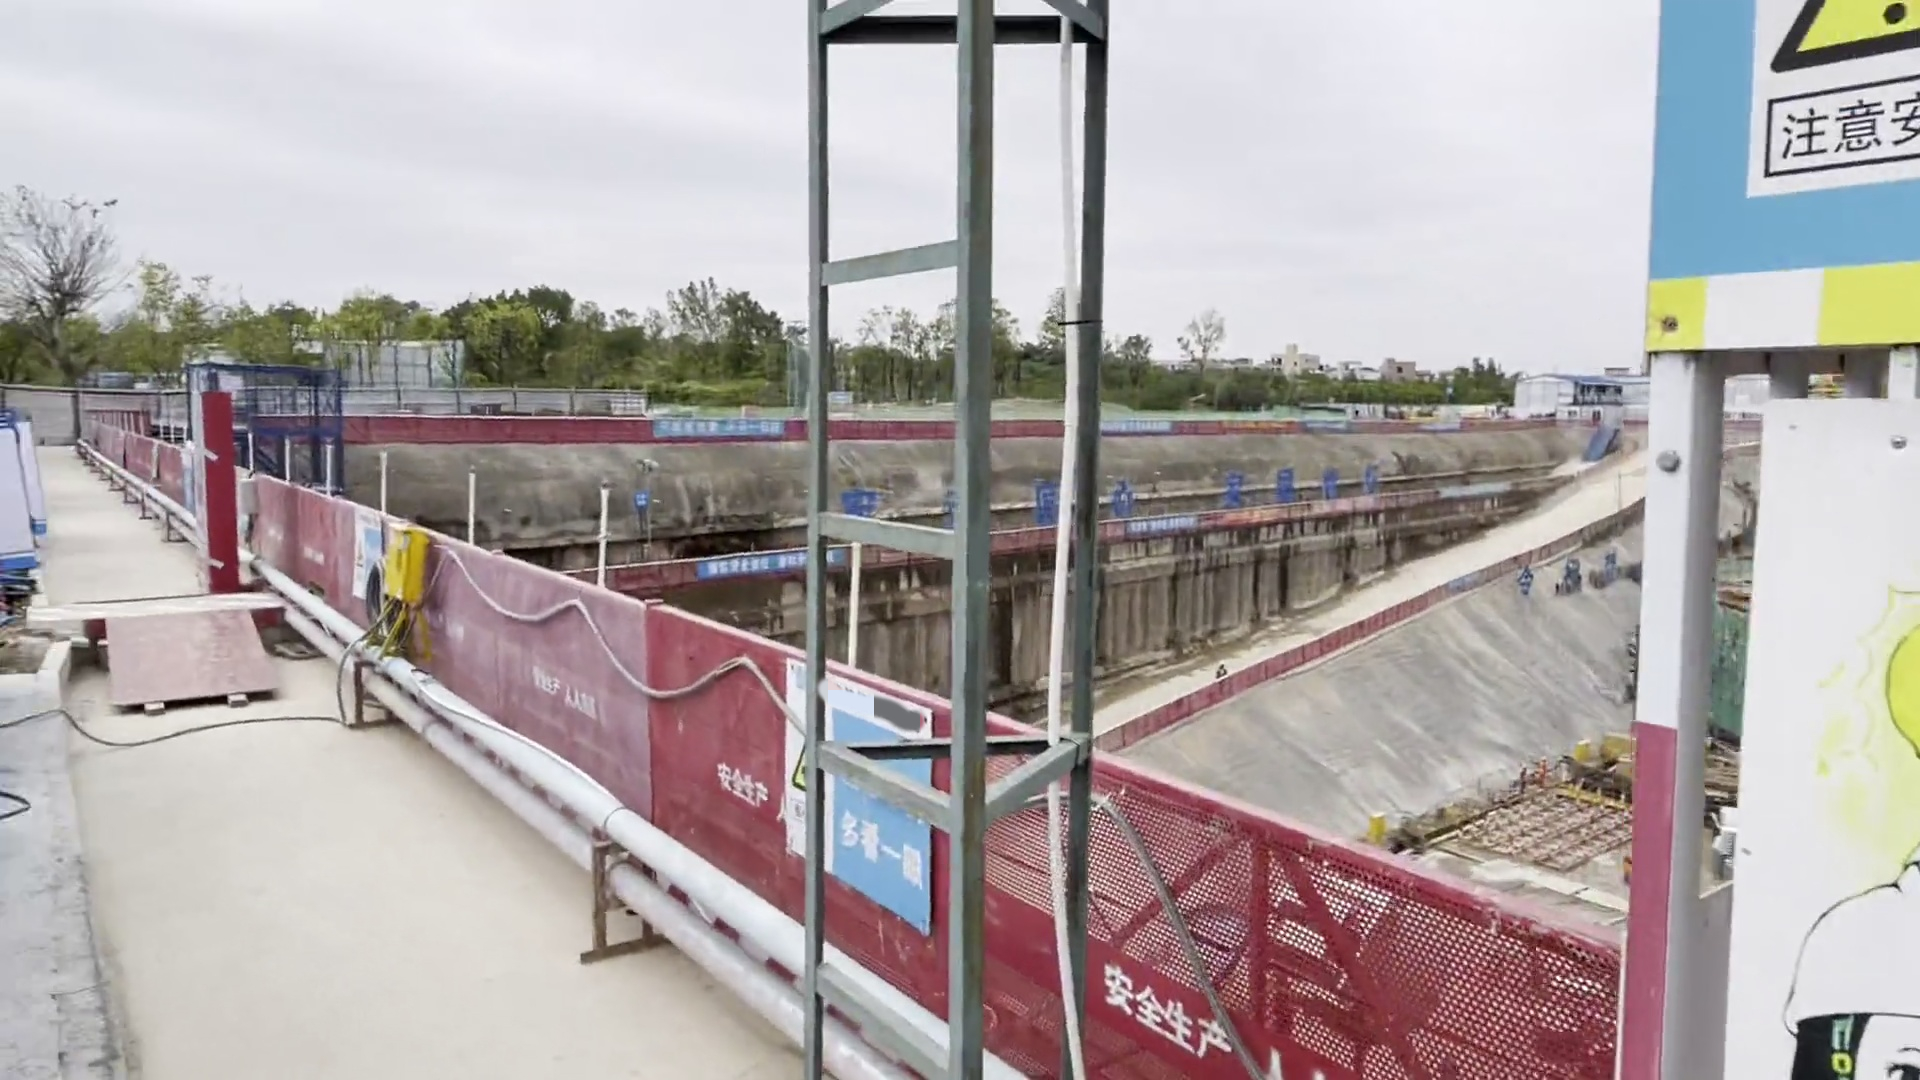board: (95, 603, 289, 738)
ebox: (385, 526, 431, 642)
fence: (746, 657, 1663, 1073)
slogan: (773, 659, 951, 949), (692, 546, 869, 585)
